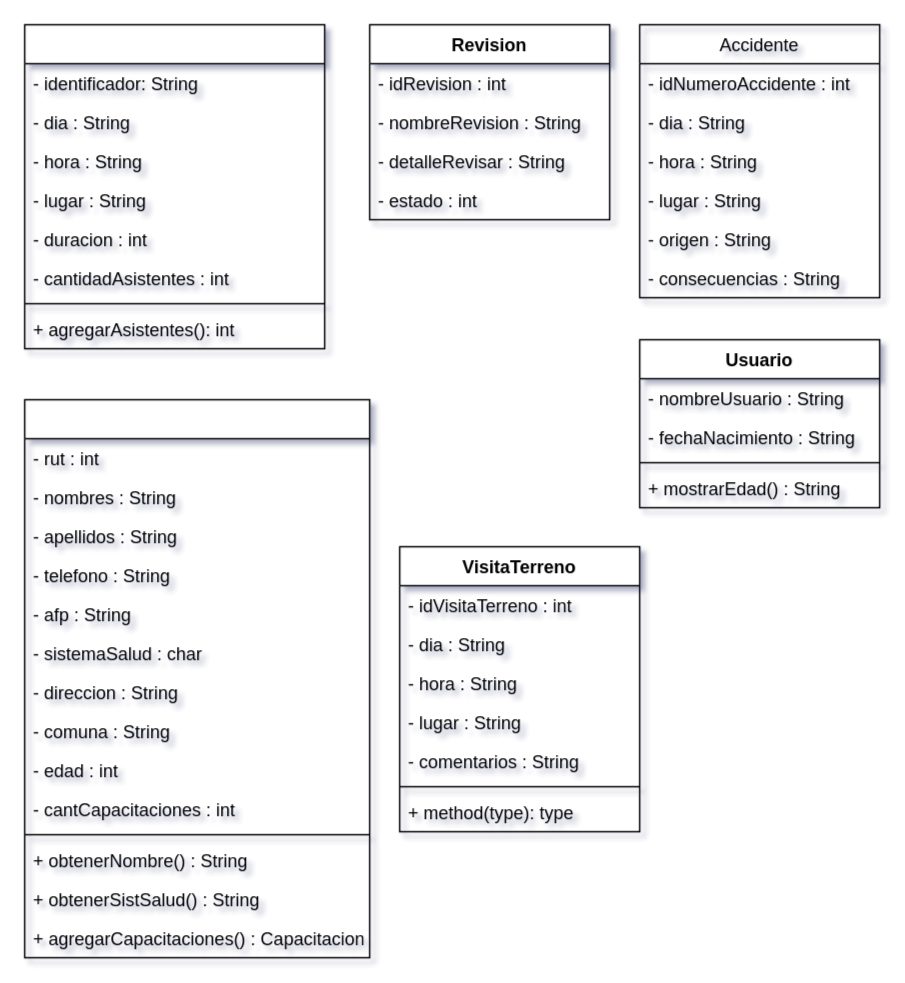
Image size: 905x983. Some labels were removed from this diagram. The box of each missing label's shape, as (x1, y1, x2, y2) in pixels:
Capacitacion: (23, 23, 325, 349)
Cliente: (23, 398, 370, 958)
